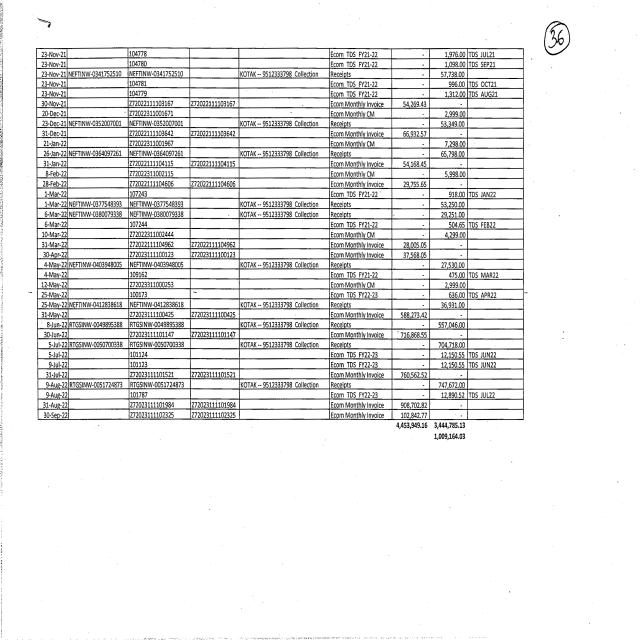page-number: (526, 0, 640, 76)
